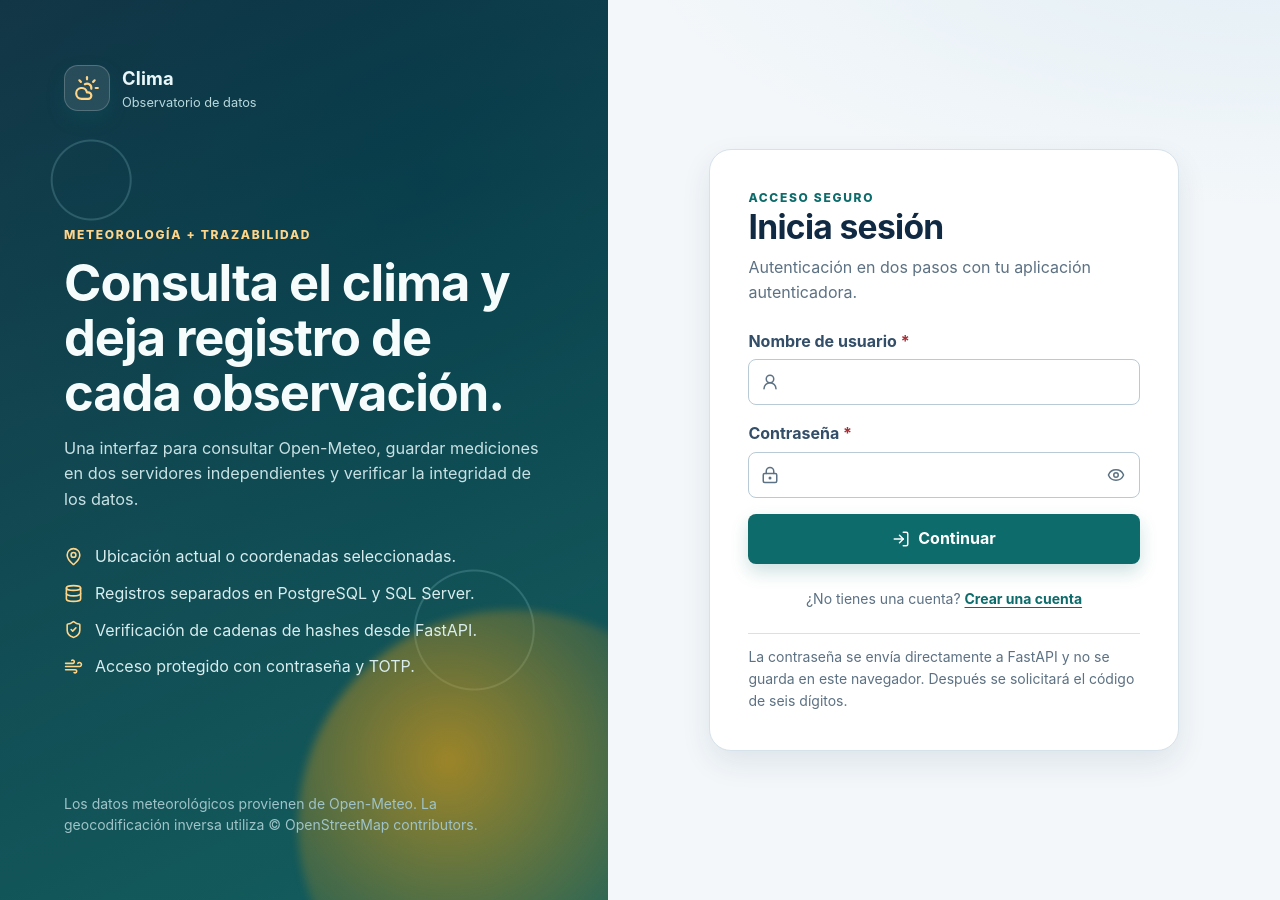
Scenario: flujo de autenticación › muestra el segundo factor tras validar credenciales
Check: the heading "Inicia sesión" is shown, box [748,206,944,247]
Type "ana" into the field labelled "Nombre de usuario *" at {"x": 944, "y": 382}, box [748,359,1140,405]
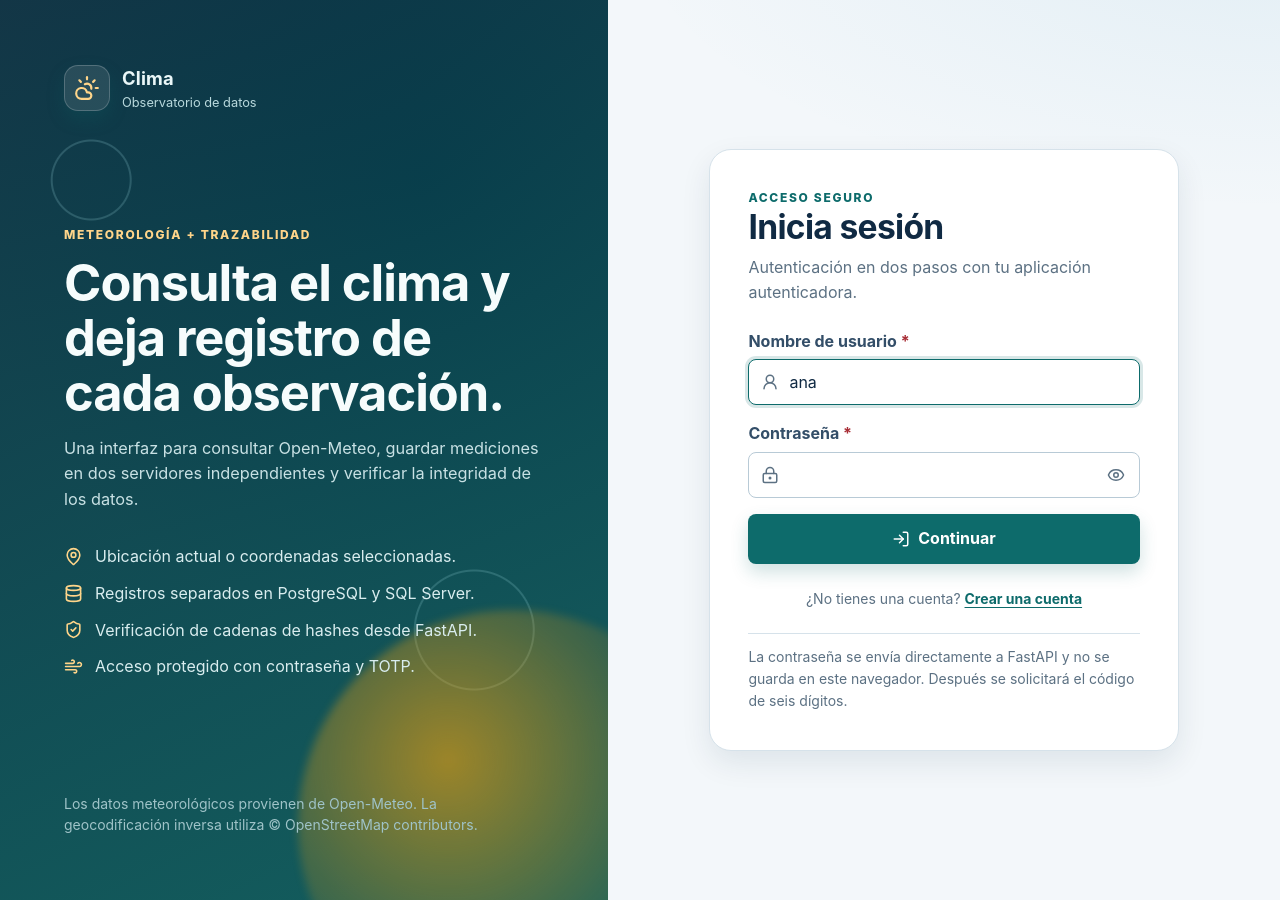
Type "secreto" into the password field labelled "Contraseña *" at {"x": 944, "y": 475}, box [748,452,1140,498]
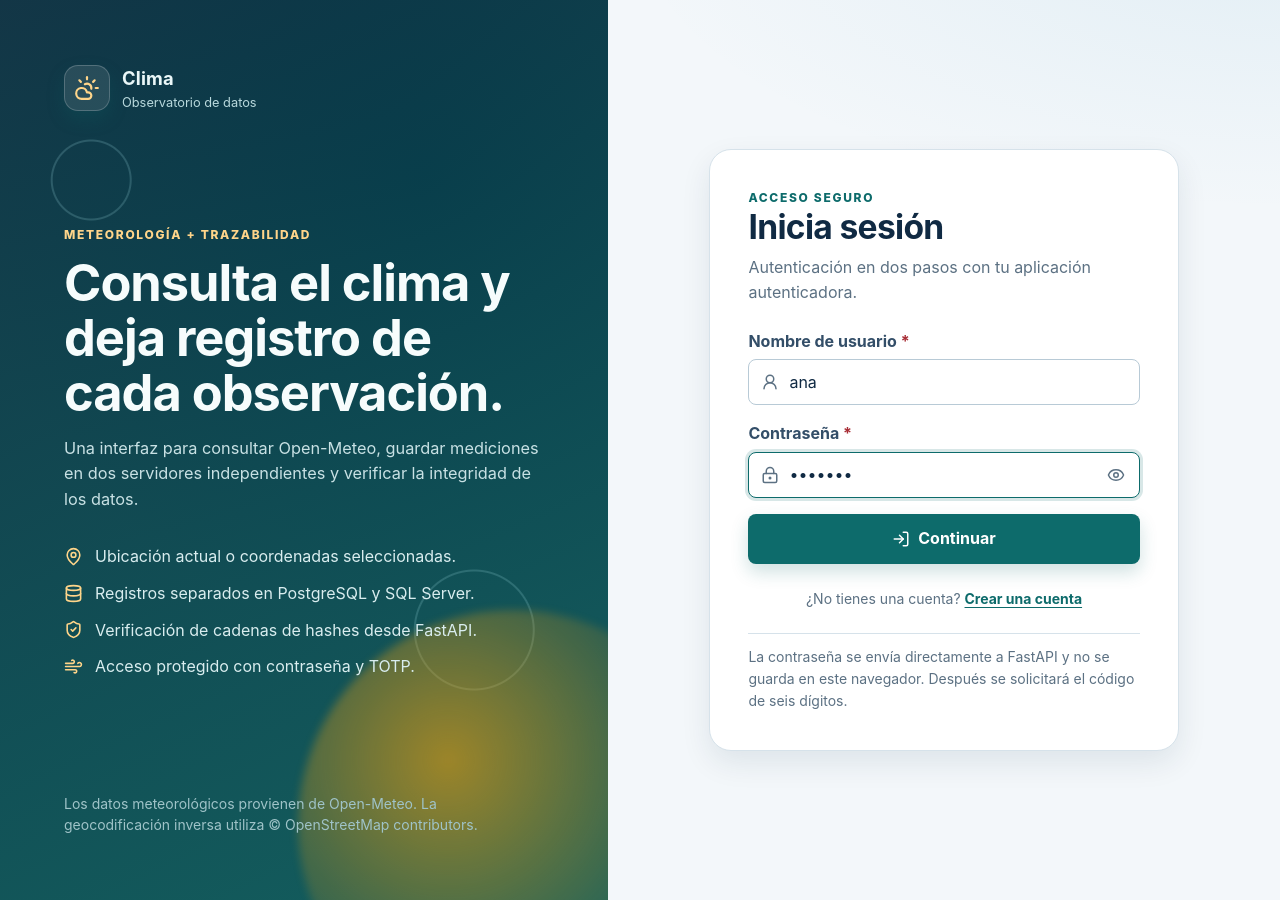
Click the button "Continuar" at {"x": 944, "y": 539}, box [748,514,1140,564]
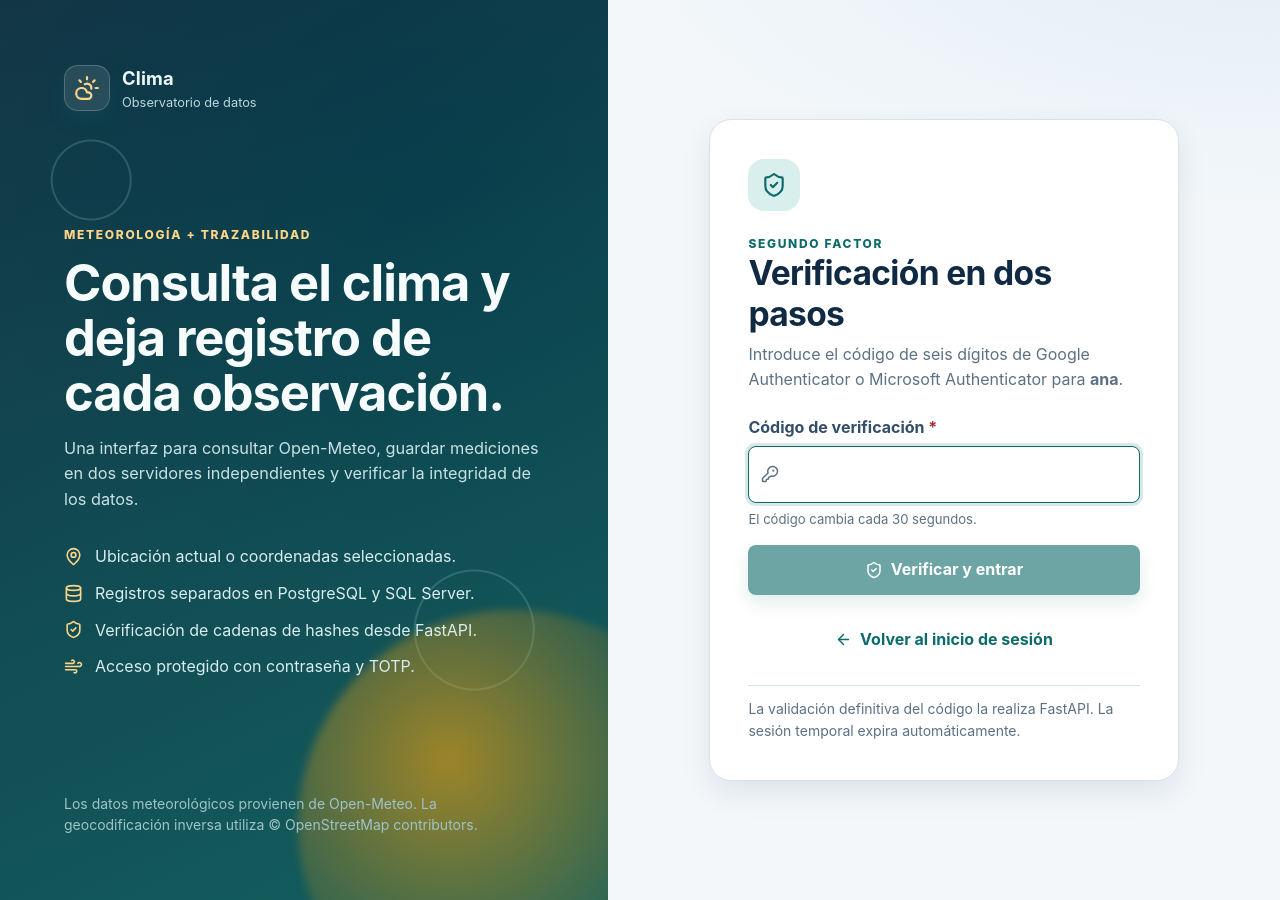
Check: the heading "Verificación en dos pasos" is shown, box [748,252,1052,334]
Check: the text "ana" is shown, box [1090,369,1118,389]
